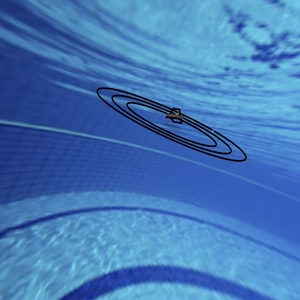circle: (80, 70, 255, 178)
submarine: (157, 97, 188, 132)
